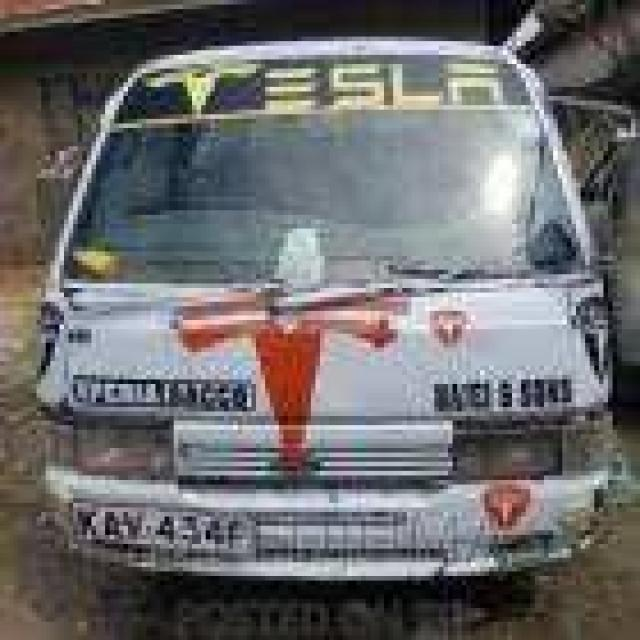matatu: (9, 18, 640, 613)
